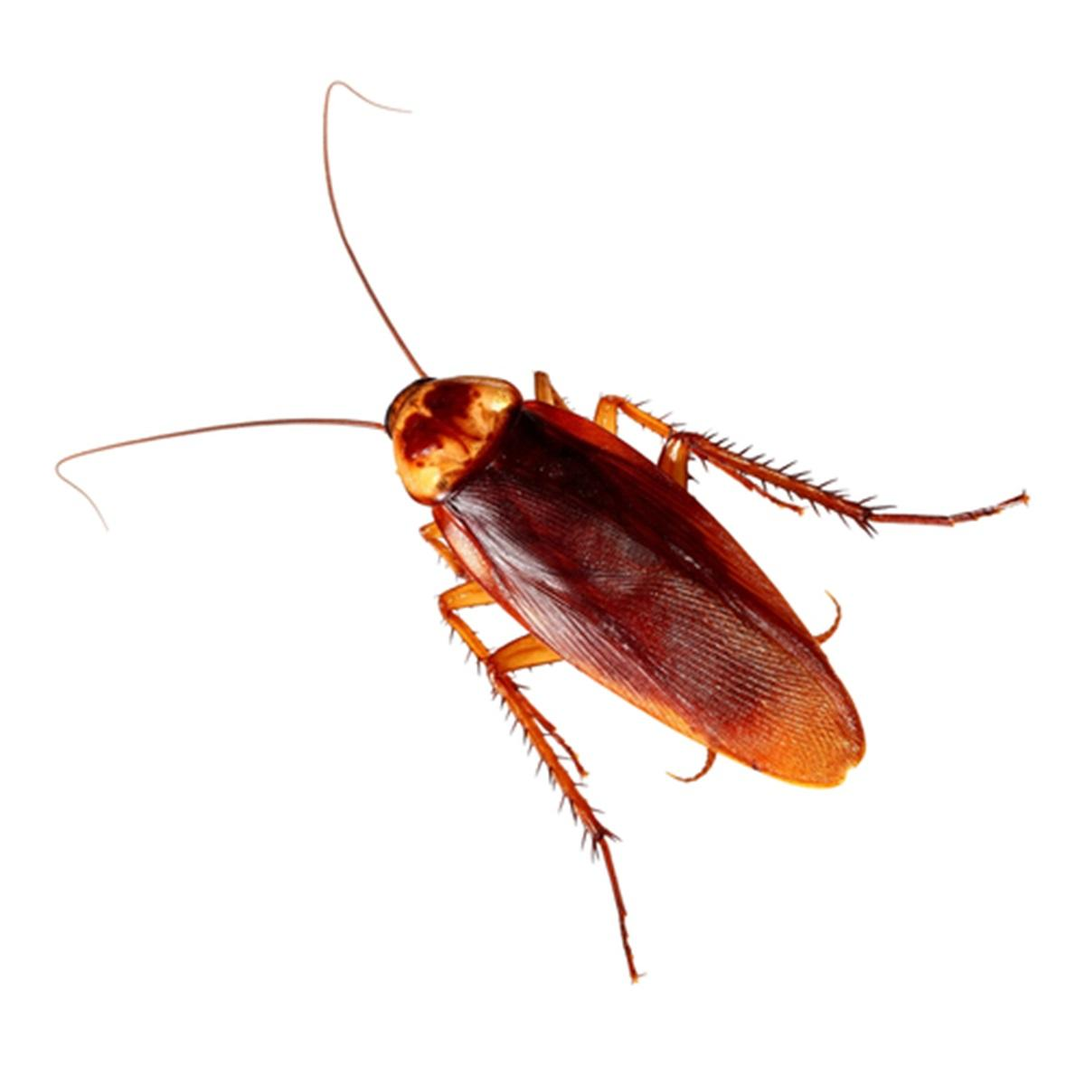cockroach: (376, 355, 870, 795)
